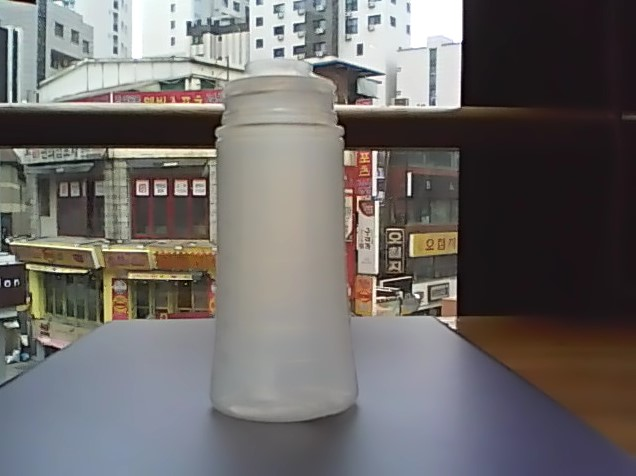Plastic: (210, 56, 365, 427)
